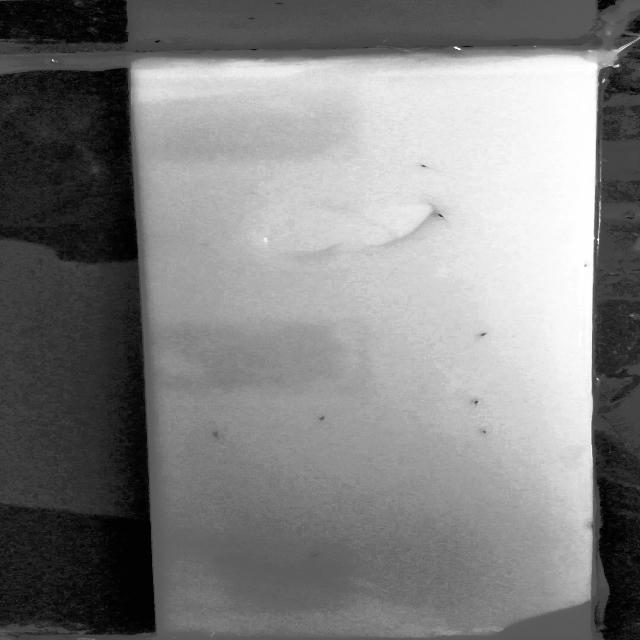shrimp: (292, 547, 340, 563), (301, 408, 335, 429), (454, 396, 494, 413), (465, 327, 498, 346), (428, 210, 461, 225)
